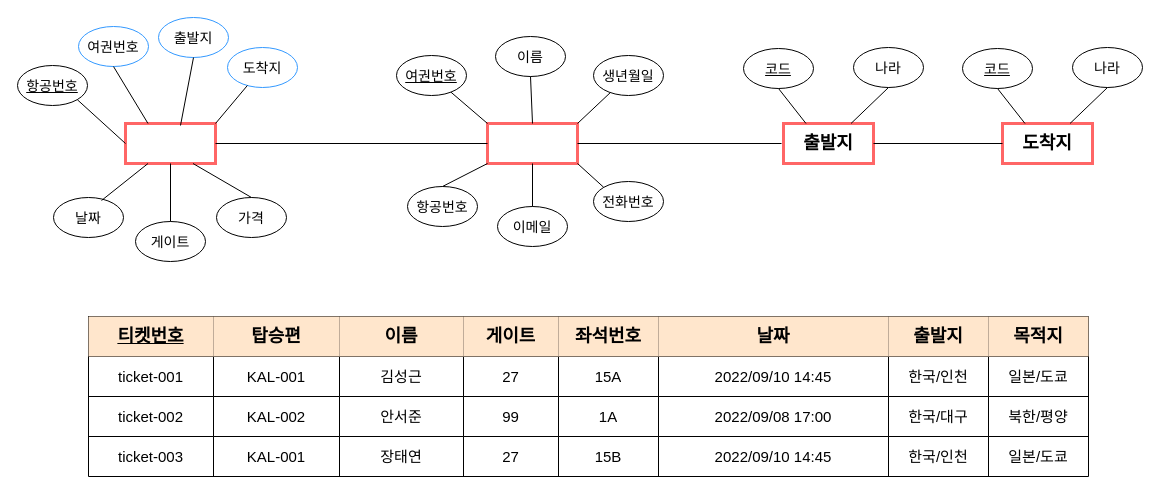
Some shapes in this 1160 by 494 pixel diagram are drawn without their labels. The centre of each missing label's shape, as x and y in pixels:
승객: point (532, 143)
항공편: point (170, 143)
